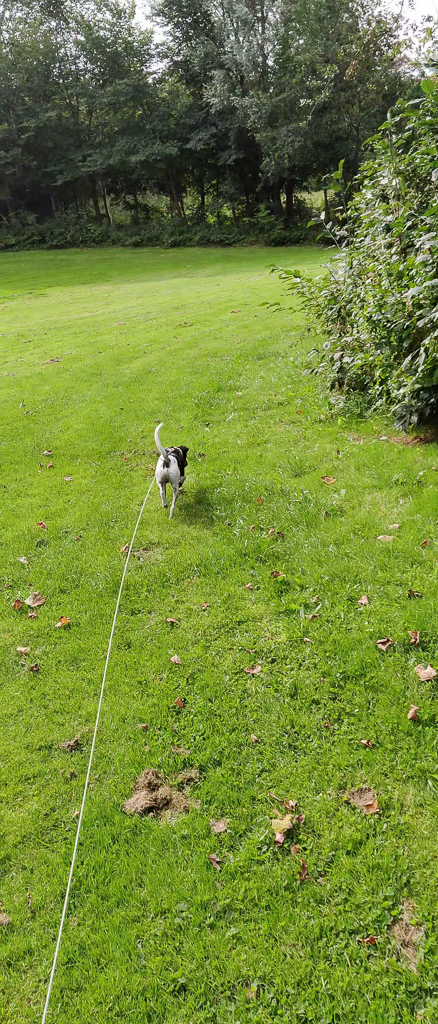Dog: (139, 415, 203, 530)
